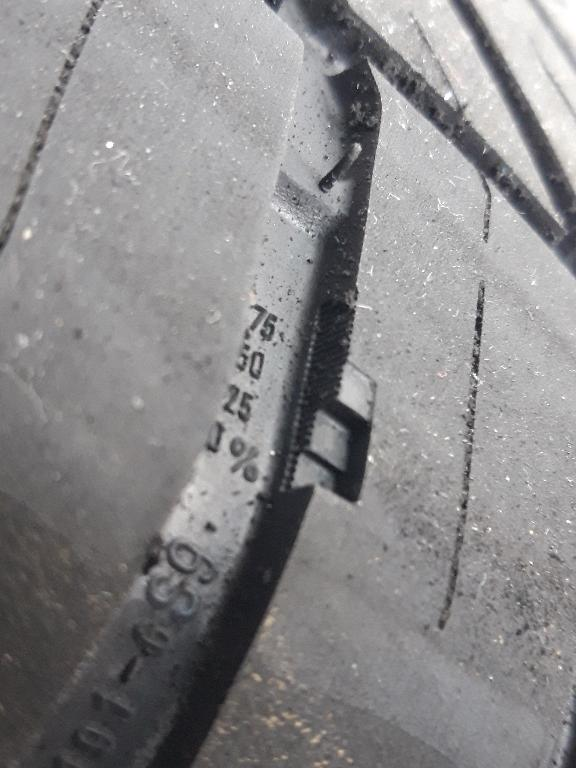temoin:50: (252, 341, 393, 520)
